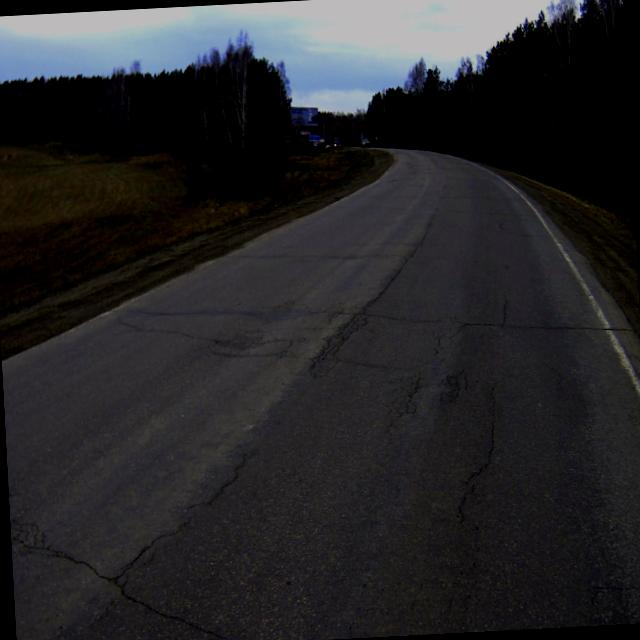road: (2, 149, 640, 640)
